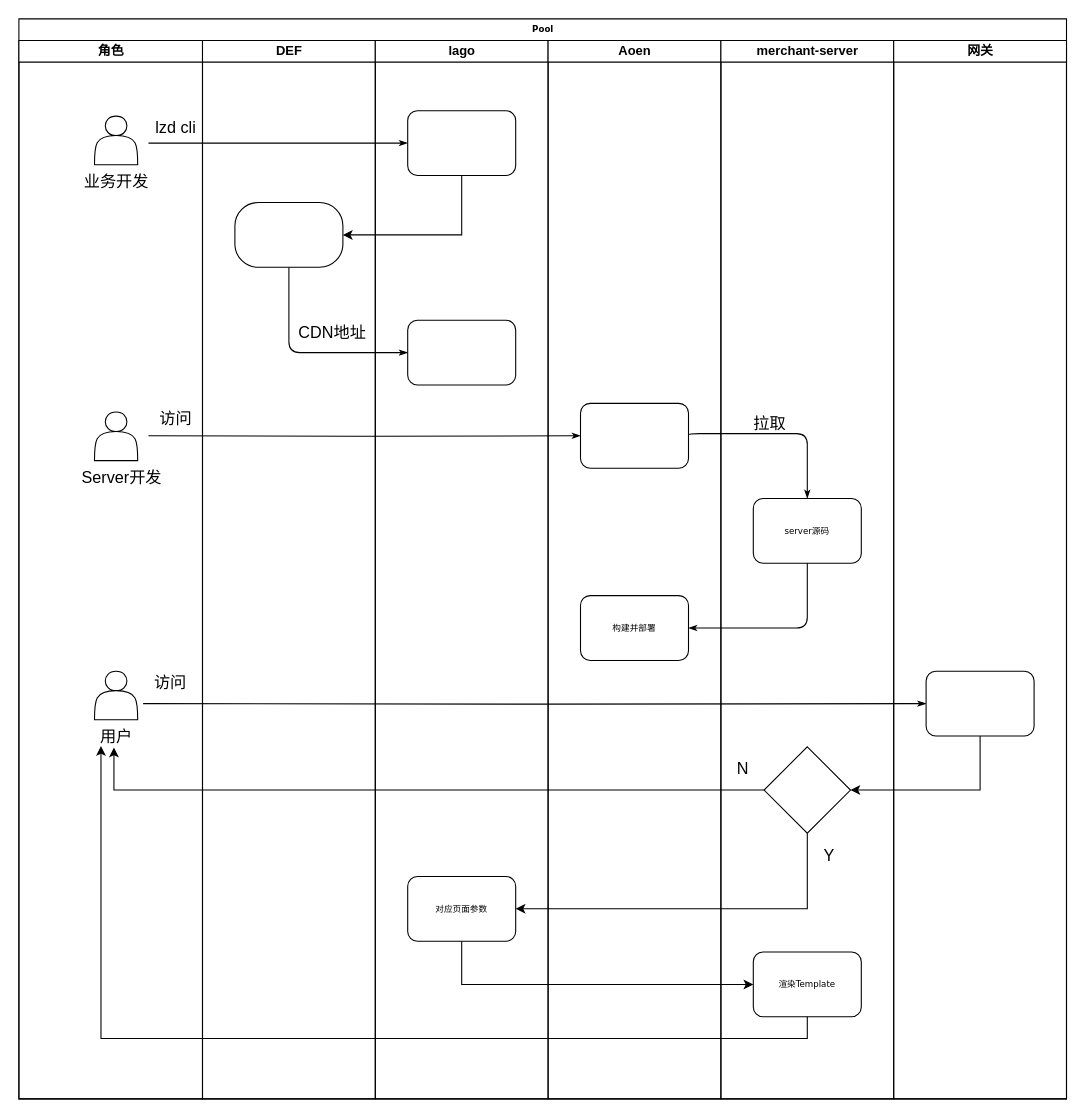
This 1085x1118 diagram has some shape labels left out. The centre of each missing label's shape, as x and y in pixels:
"创建页面和Template" goes at pixel 461 143.
"发布应用server" goes at pixel 633 435.
"寻址对应server" goes at pixel 979 703.
"构建出Assets" goes at pixel 288 234.
"配置页面参数" goes at pixel 461 352.
"鉴权" goes at pixel 806 789.
